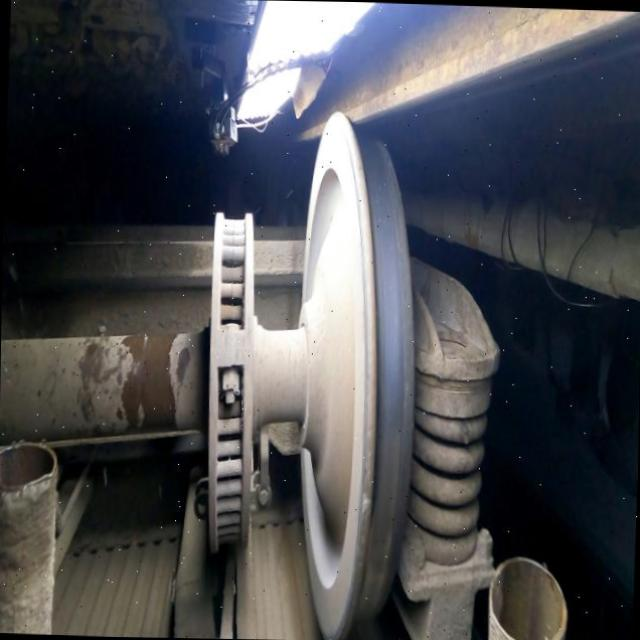Cracks-Scratches: (358, 488, 369, 514)
Shelling: (354, 441, 397, 616)
Wheel: (299, 109, 412, 640)
